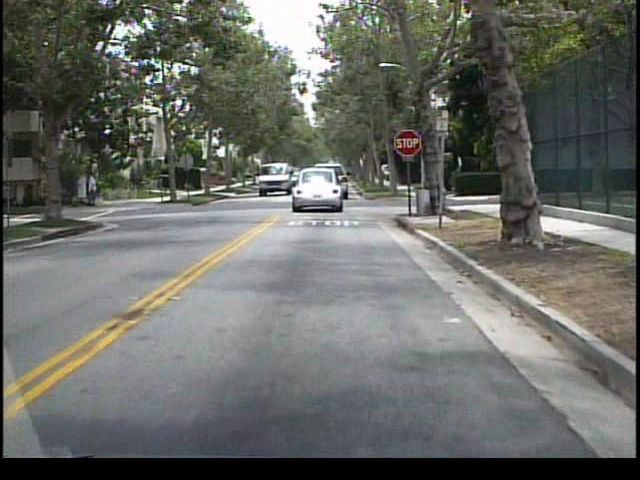person: (70, 166, 84, 210), (90, 166, 103, 210)
